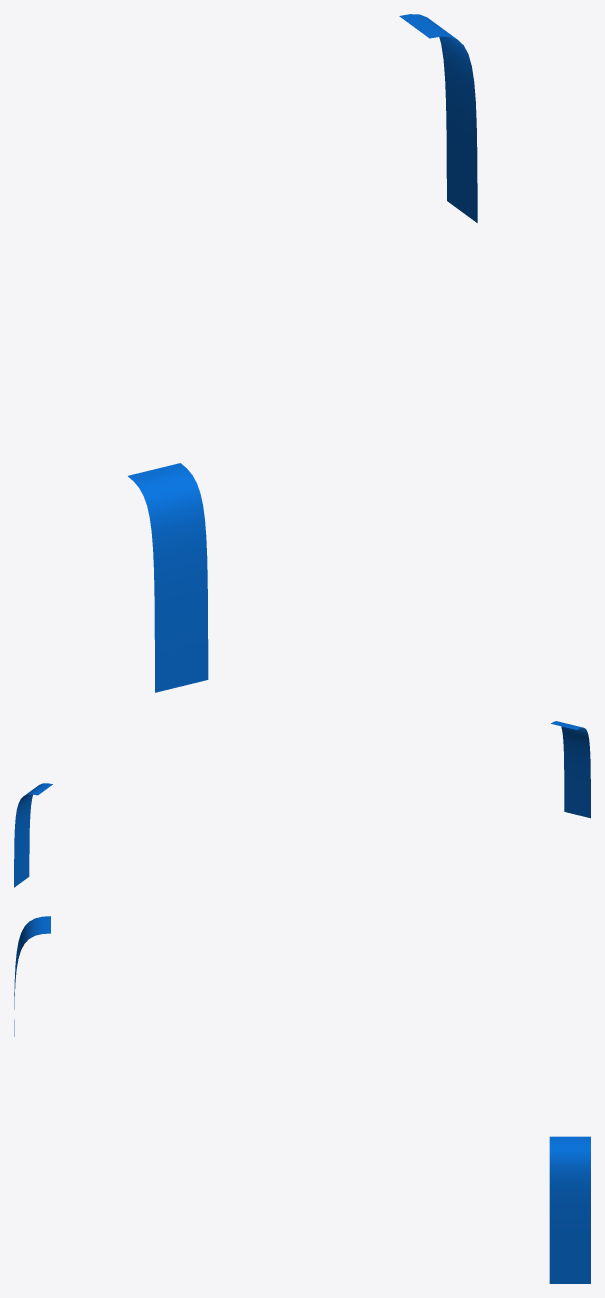
Rendered from cascade.gltf.
3 views of the same model, one above another, from view 1: azimuth 30°, elevation 25°; view 2: azimuth 150°, elevation 25°; view 3: azimuth 270°, elevation 25° (orthographic). The views are drawn at different scales.
Parts seen in each view (by area): view 1: BezierCurve.013, BezierCurve.014; view 2: BezierCurve.013, BezierCurve.014; view 3: BezierCurve.014, BezierCurve.013.
Part boxes in pixels (x1,y1,x2,y2): BezierCurve.013: (128,463,208,692); BezierCurve.014: (399,14,477,222); BezierCurve.013: (551,721,590,818); BezierCurve.014: (14,783,52,887); BezierCurve.014: (549,1136,590,1283); BezierCurve.013: (14,916,50,1036).
Bounding box in the file's own units: 1.84 × 0.4775 × 1.9.
1 material, 1 textured.
